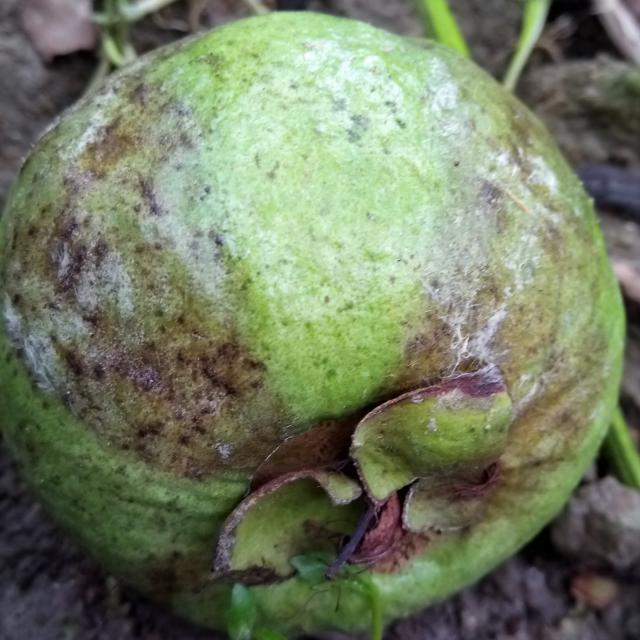Phytopthora: (0, 13, 624, 636)
